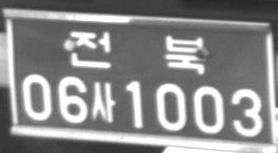0: (192, 84, 225, 134), (155, 82, 187, 132), (21, 72, 52, 121)
1: (122, 80, 149, 128)
3: (230, 87, 264, 137)
6: (58, 74, 89, 123)
사: (90, 81, 116, 123)
전북_D: (69, 30, 206, 76)
